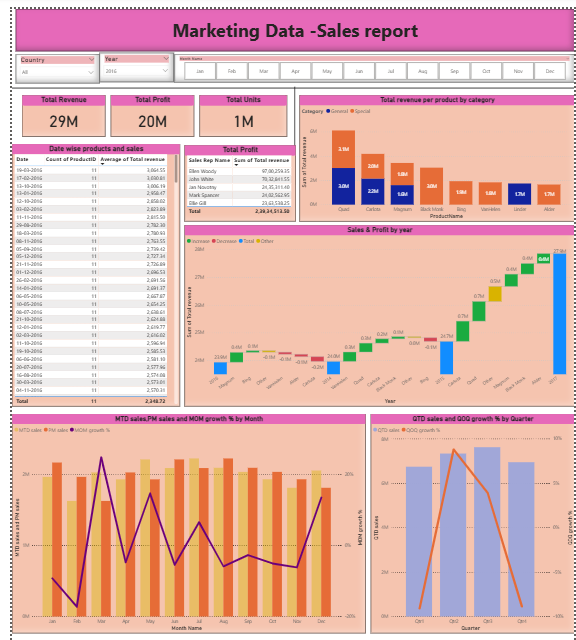

The page's visual inventory and layout, read from the dashboard file:
{"tool":"powerbi","page":{"name":"Page 1","canvas":[1500,1700],"ordinal":0},"visuals":[{"type":"textbox","box":[10,0,1490,112.5],"z":0},{"type":"slicer","fields":{"Values":["Sales.Country"]},"box":[10,118.8,223.8,78.8],"z":1000},{"type":"slicer","fields":{"Values":["Dim_Table.Year"]},"box":[233.8,116.2,198.8,78.8],"z":2000},{"type":"slicer","fields":{"Values":["Dim_Table.Month Name"]},"box":[432.5,118.8,1067.5,76.2],"z":3000},{"type":"shape","box":[0,182.5,1500,55],"z":4000},{"type":"shape","box":[723.8,207.5,61.2,262.5],"z":5000},{"type":"card","title":"Total Revenue","fields":{"Values":["Sales.Total revenue"]},"box":[26.2,228.8,222.5,110],"z":6000},{"type":"card","title":"Total Profit","fields":{"Values":["Sales.Gross profit"]},"box":[262.5,228.8,222.5,110],"z":8000},{"type":"card","title":"Total Units","fields":{"Values":["Sales.Units"]},"box":[500,228.8,233.8,110],"z":9000},{"type":"tableEx","title":"Date wise products and sales","fields":{"Values":["Dim_Table.Date","Products.ProductID","Sales.Total revenue"]},"box":[0,358.3,448.3,700],"z":10000},{"type":"tableEx","title":"Total Profit","fields":{"Values":["SalesRep.Sales Rep Name","Sales.Total revenue"]},"box":[458.3,361.7,296.7,203.3],"z":11000},{"type":"columnChart","title":"Total revenue per product by category","fields":{"Category":["Products.ProductName"],"Y":["Sales.Total revenue"],"Series":["Categories.Category"]},"box":[765,228.3,735,336.7],"z":12000},{"type":"waterfallChart","title":"Sales per product by year","fields":{"Y":["Sales.Total revenue"],"Category":["Dim_Table.Year"],"Breakdown":["Products.ProductName"]},"box":[458.3,575,1041.7,483.3],"z":13000},{"type":"lineClusteredColumnComboChart","title":"MTD sales,PM sales and MOM growth % by  Month","fields":{"Category":["Dim_Table.Month Name"],"Y":["Categories.MTD sales","Categories.PM sales"],"Y2":["Categories.MOM growth %"]},"box":[0,1080,943.3,585],"z":14000},{"type":"lineStackedColumnComboChart","fields":{"Y":["Categories.QTD sales"],"Category":["Dim_Table.Quarter"],"Y2":["Categories.QOQ growth %"]},"box":[955,1080,545,585],"z":15000}]}

Visuals, with their boxes in screenshot pixels (x1, y1, x2, y2), scaled from the page's 1500x1700 canvas onto the 576x640 screenshot:
textbox: x1=4 y1=0 x2=575 y2=42
slicer - Sales.Country: x1=4 y1=45 x2=90 y2=74
slicer - Dim_Table.Year: x1=90 y1=44 x2=166 y2=73
slicer - Dim_Table.Month Name: x1=166 y1=45 x2=575 y2=73
shape: x1=0 y1=69 x2=575 y2=89
shape: x1=278 y1=78 x2=301 y2=177
"Total Revenue" card: x1=10 y1=86 x2=96 y2=128
"Total Profit" card: x1=101 y1=86 x2=186 y2=128
"Total Units" card: x1=192 y1=86 x2=282 y2=128
"Date wise products and sales" tableEx: x1=0 y1=135 x2=172 y2=398
"Total Profit" tableEx: x1=176 y1=136 x2=290 y2=213
"Total revenue per product by category" columnChart: x1=294 y1=86 x2=575 y2=213
"Sales per product by year" waterfallChart: x1=176 y1=216 x2=575 y2=398
"MTD sales,PM sales and MOM growth % by  Month" lineClusteredColumnComboChart: x1=0 y1=407 x2=362 y2=627
lineStackedColumnComboChart - Categories.QTD sales x Dim_Table.Quarter: x1=367 y1=407 x2=575 y2=627
